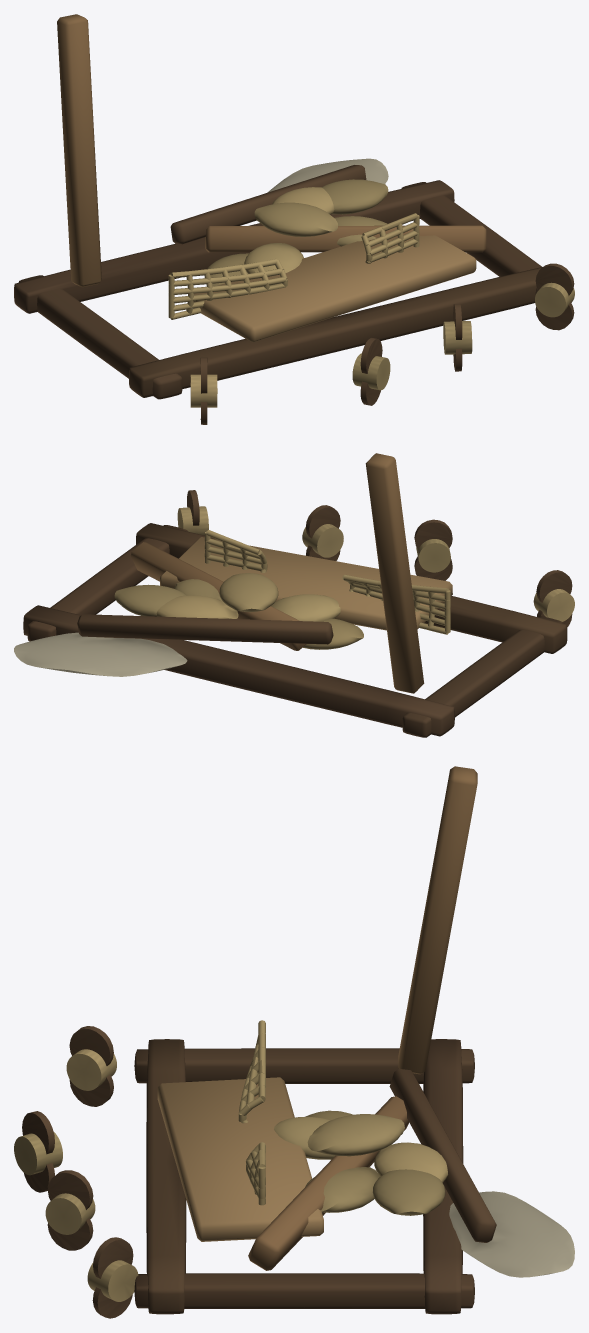
File: loom_frame_c.glb
3 views of the same model, one above another, from view 1: azimuth 30°, elevation 25°; view 2: azimuth 150°, elevation 25°; view 3: azimuth 270°, elevation 25° (orthographic). The views are drawn at different scales.
Parts seen in each view (by area): view 1: Surface; view 2: Surface; view 3: Surface.
Boxes of the visible parts, x1=… form: Surface: x1=14, y1=14, x2=574, y2=424; Surface: x1=14, y1=453, x2=574, y2=737; Surface: x1=14, y1=766, x2=574, y2=1318.
Bounding box in the file's own units: 5.6 × 3.6 × 5.27.
